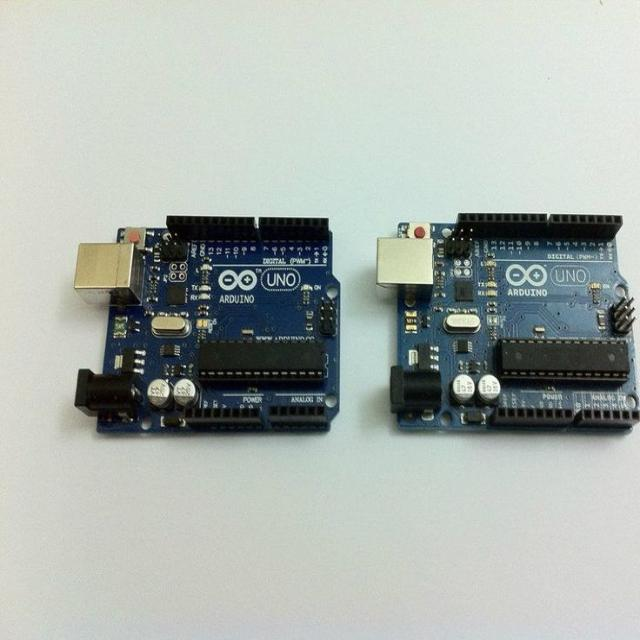Arduino: (61, 207, 350, 442), (367, 202, 640, 450)
